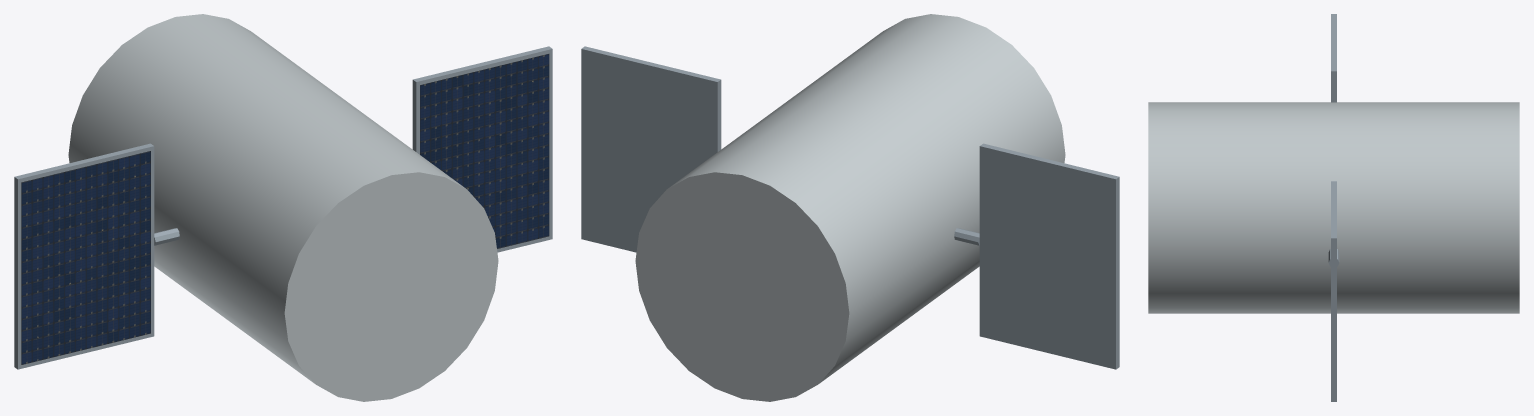
Rendered from ref-usa-184-29249.glb.
3 renders of one model, left to right at view 1: azimuth 30°, elevation 25°; view 2: azimuth 150°, elevation 25°; view 3: azimuth 270°, elevation 25°, orthographic. The views are drawn at different scales.
Visible parts, largest first — view 1: Spacecraft body, Photovoltaic laminates (×2), Array frame (×2); view 2: Spacecraft body, Array frame (×2); view 3: Spacecraft body, Array frame (×2).
Part boxes in pixels (x1,y1,x2,y2): Spacecraft body: (68,14,498,401); Photovoltaic laminates (×2): (21,54,549,364); Array frame (×2): (14,46,552,369); Spacecraft body: (635,14,1065,401); Array frame (×2): (581,46,1119,369); Spacecraft body: (1148,102,1519,313); Array frame (×2): (1331,14,1336,401).
Bounding box in the file's own units: 10 × 4 × 7.
3 materials, 1 textured.
